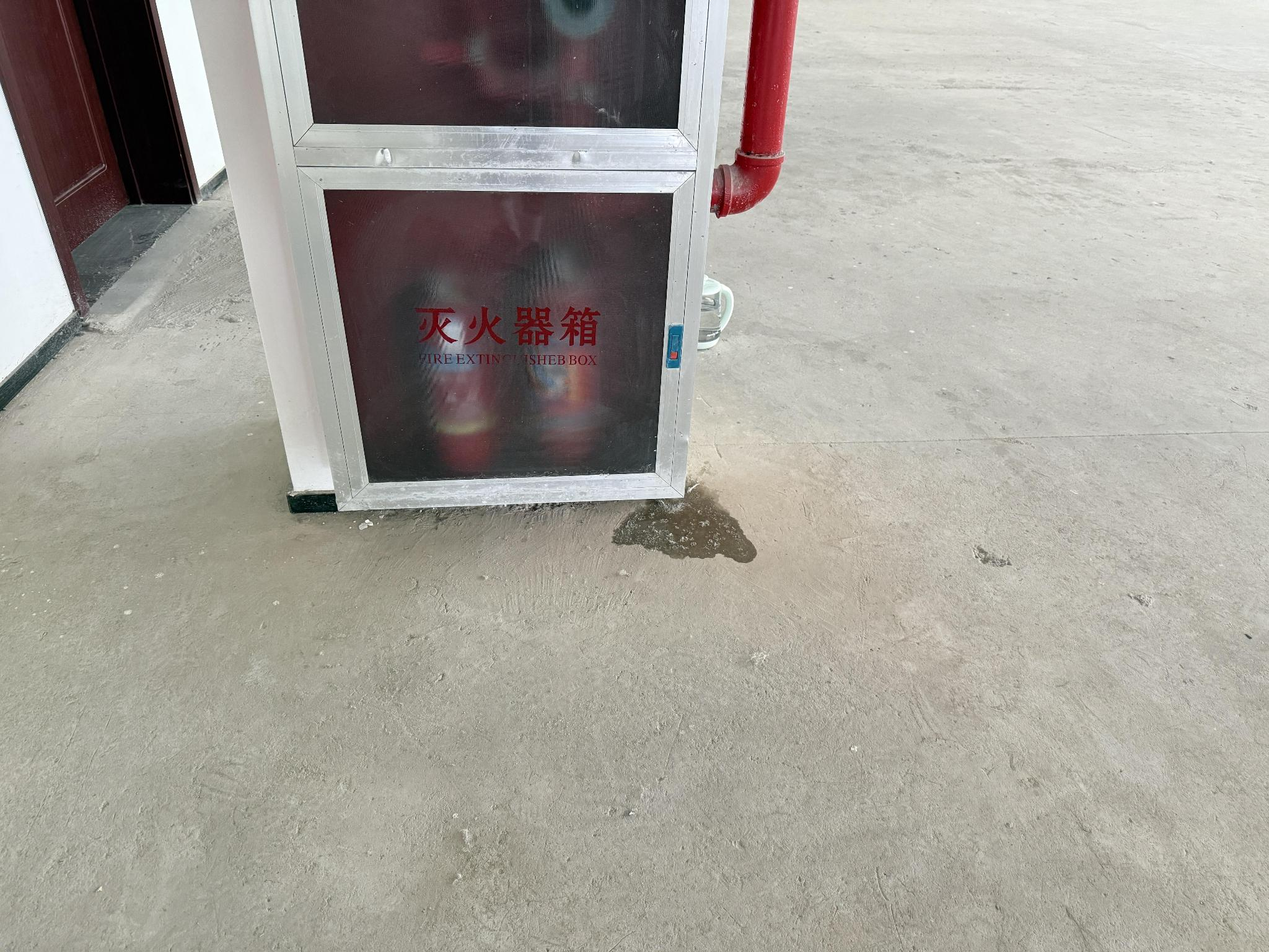water accumulation: (611, 476, 760, 565)
